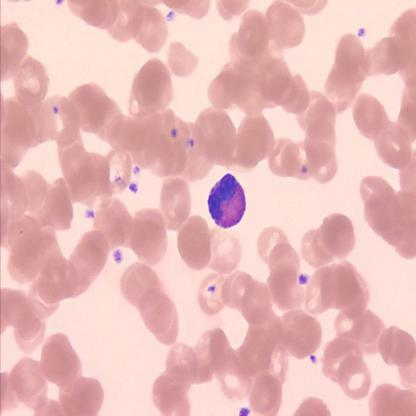Eosinophil: (207, 171, 248, 230)
